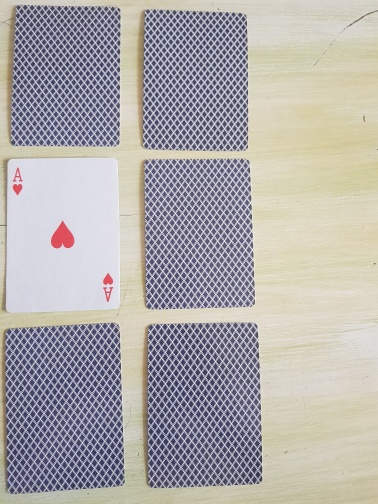ace: (5, 157, 120, 314)
